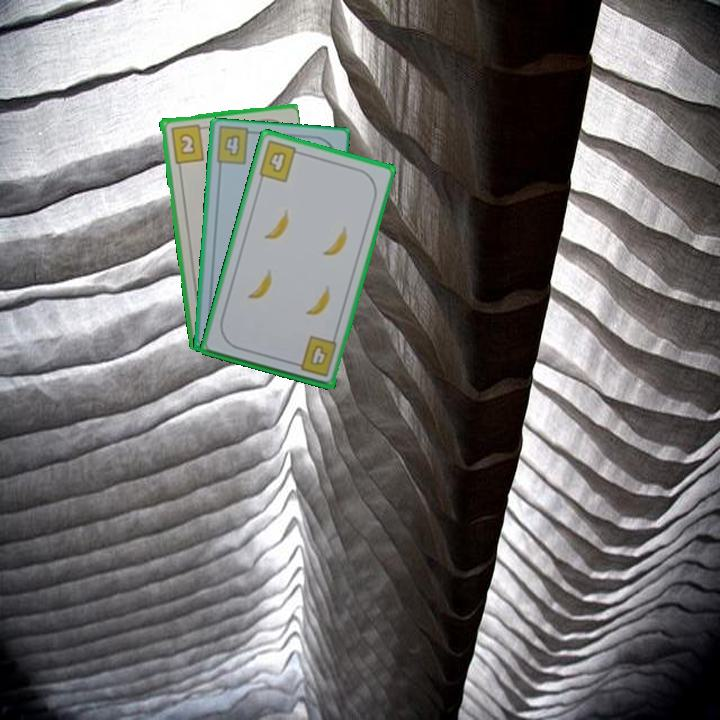2b: (167, 120, 209, 166)
4b: (255, 137, 306, 185), (289, 332, 340, 379), (220, 131, 243, 159)
